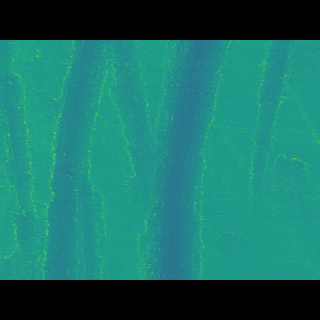Loch: (35, 69, 149, 250), (133, 69, 236, 249), (244, 68, 300, 186), (0, 68, 33, 250)
